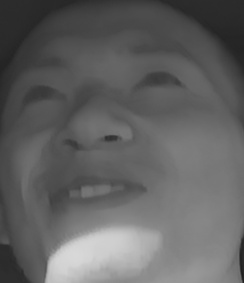eye: (132, 65, 188, 97), (16, 81, 70, 112)
mouth: (43, 161, 145, 226)
